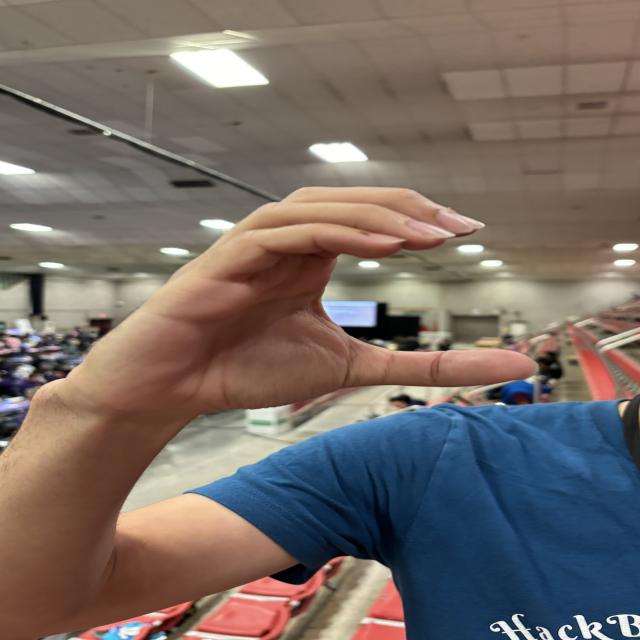C: (132, 175, 554, 405)
